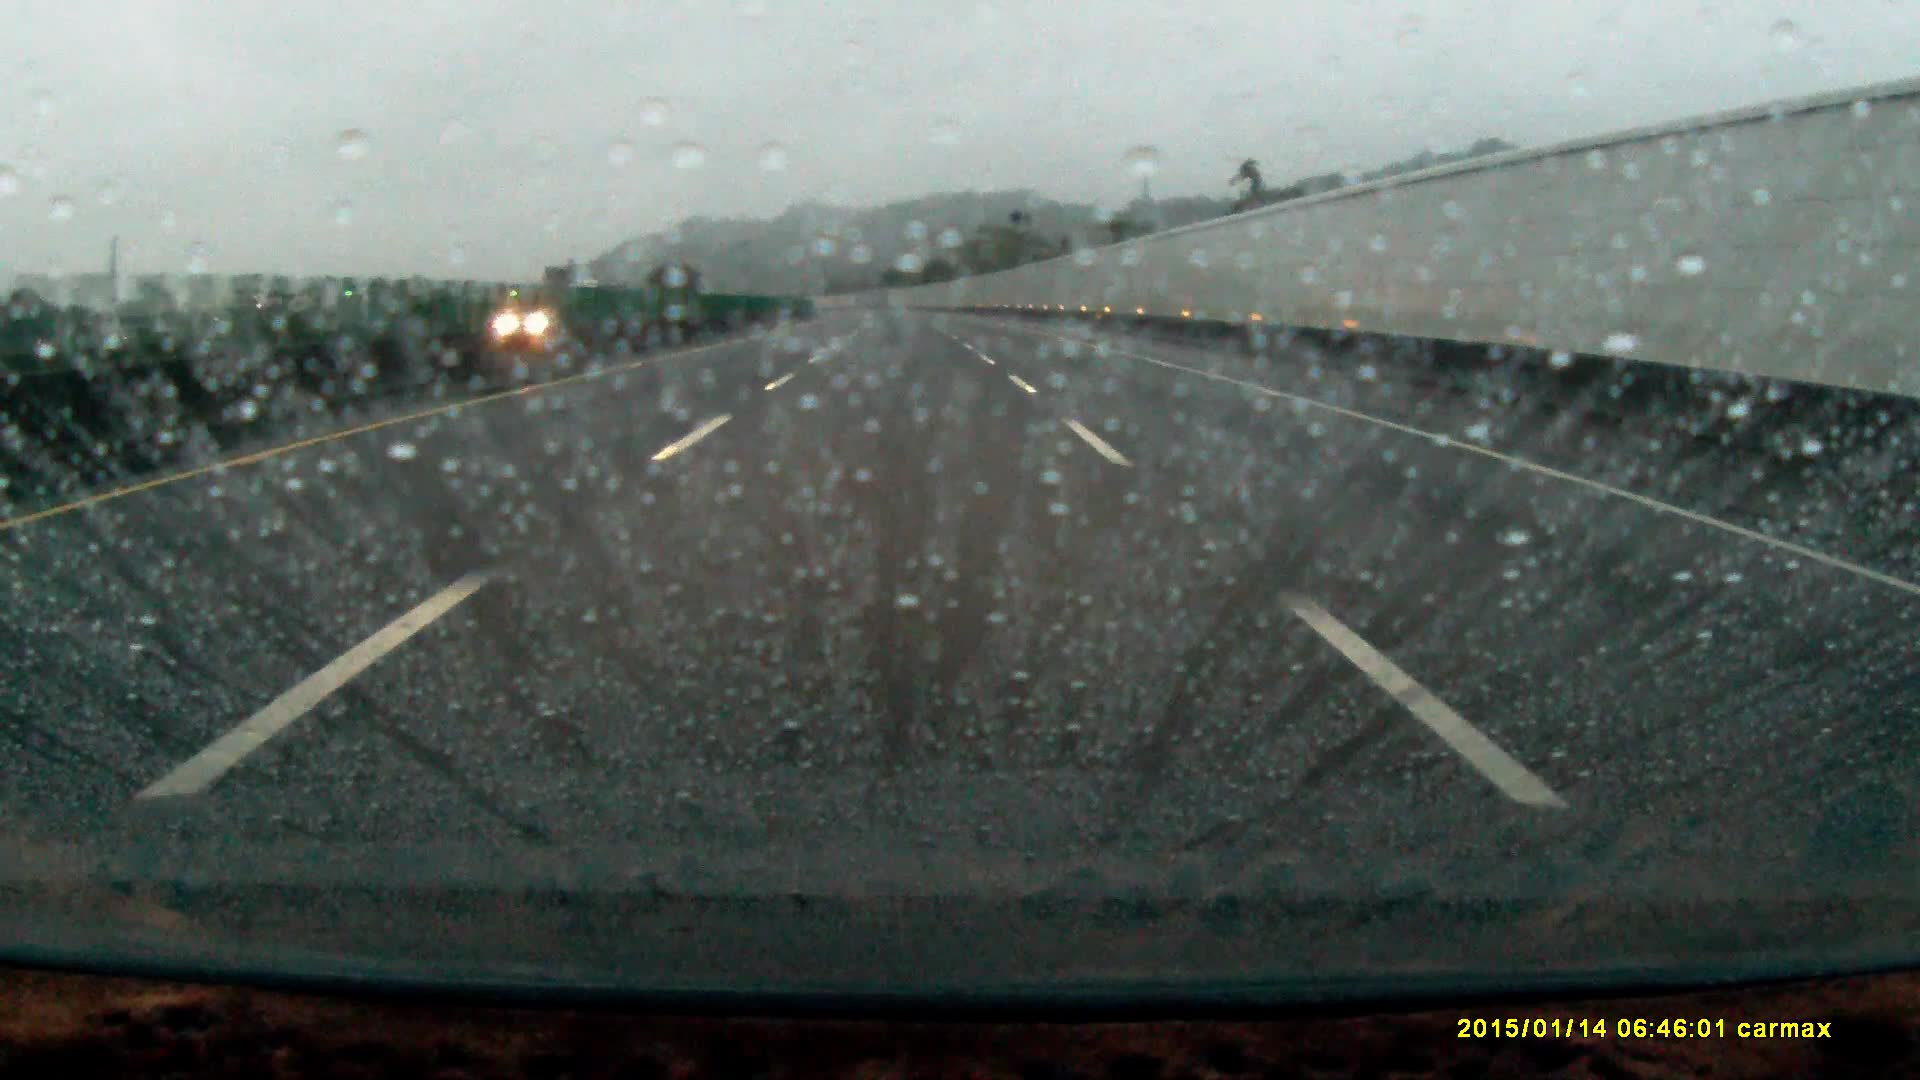vehicle: (493, 302, 571, 338)
